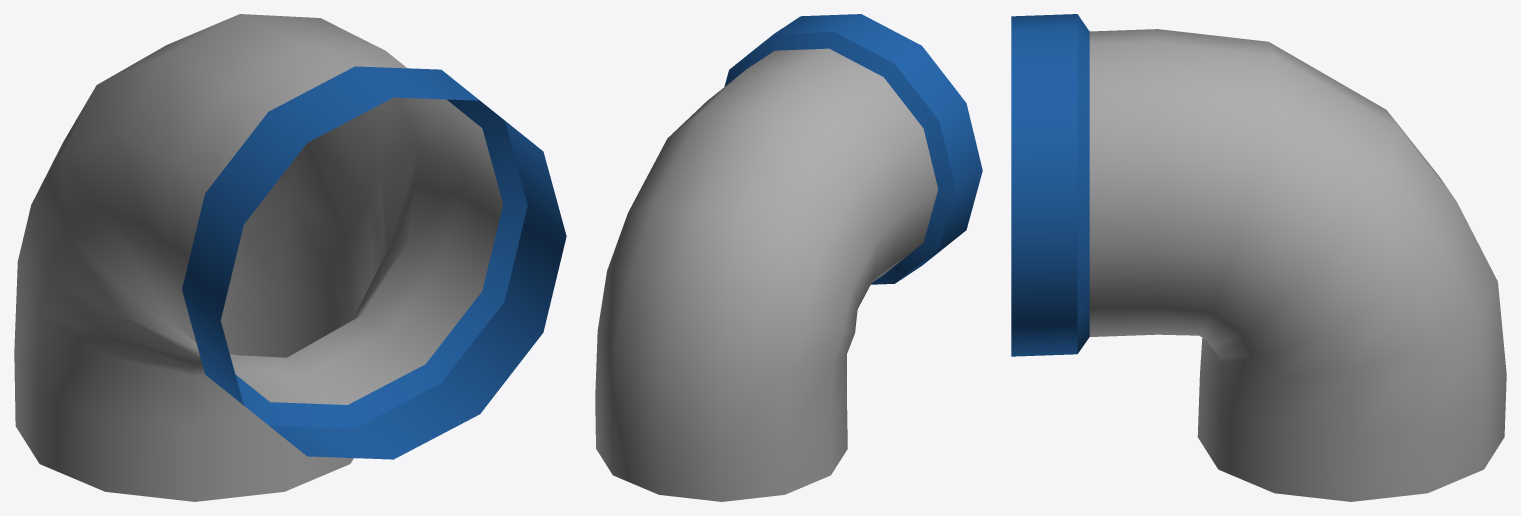
File: SM_Builder_Tube01.fbx
3 views of the same model, side by side, from view 1: azimuth 30°, elevation 25°; view 2: azimuth 150°, elevation 25°; view 3: azimuth 270°, elevation 25° (orthographic). The views are drawn at different scales.
Visible parts, largest first — view 1: BuilderAsset_Tube1; view 2: BuilderAsset_Tube1; view 3: BuilderAsset_Tube1.
Part boxes in pixels (<box>): BuilderAsset_Tube1: <box>14,14,566,501</box>; BuilderAsset_Tube1: <box>595,14,982,501</box>; BuilderAsset_Tube1: <box>1011,14,1506,501</box>.
Size of the model in its own units: 58.04 by 76.44 by 84.17.
